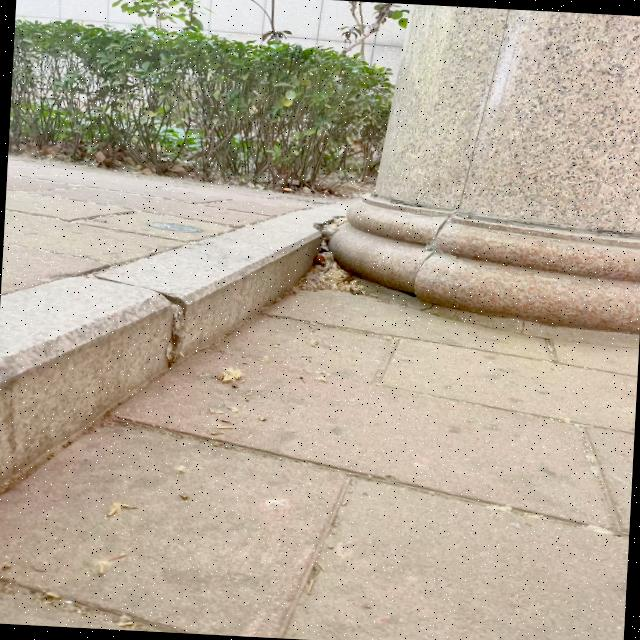curb: (1, 182, 339, 501)
